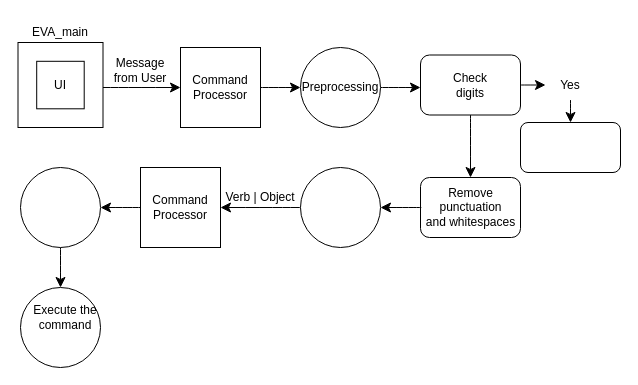
Some shapes in this 638 by 385 pixel diagram are drawn without their labels. The box of each missing label's shape, as (x1, y1, x2, y2) in pixels:
Extractor: (300, 166, 380, 248)
Process Command: (20, 166, 100, 248)
Turn alarm flag: (520, 122, 620, 172)
